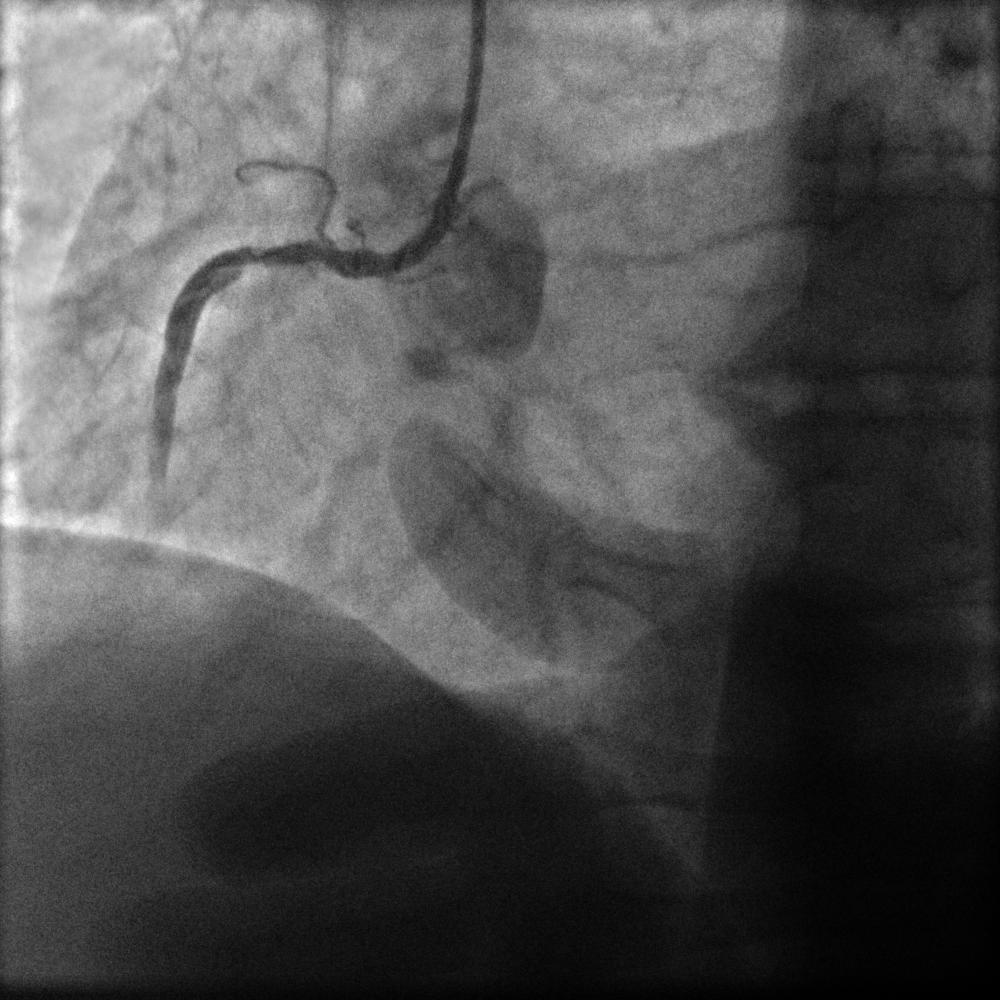Stenosis: (243, 219, 395, 283)
